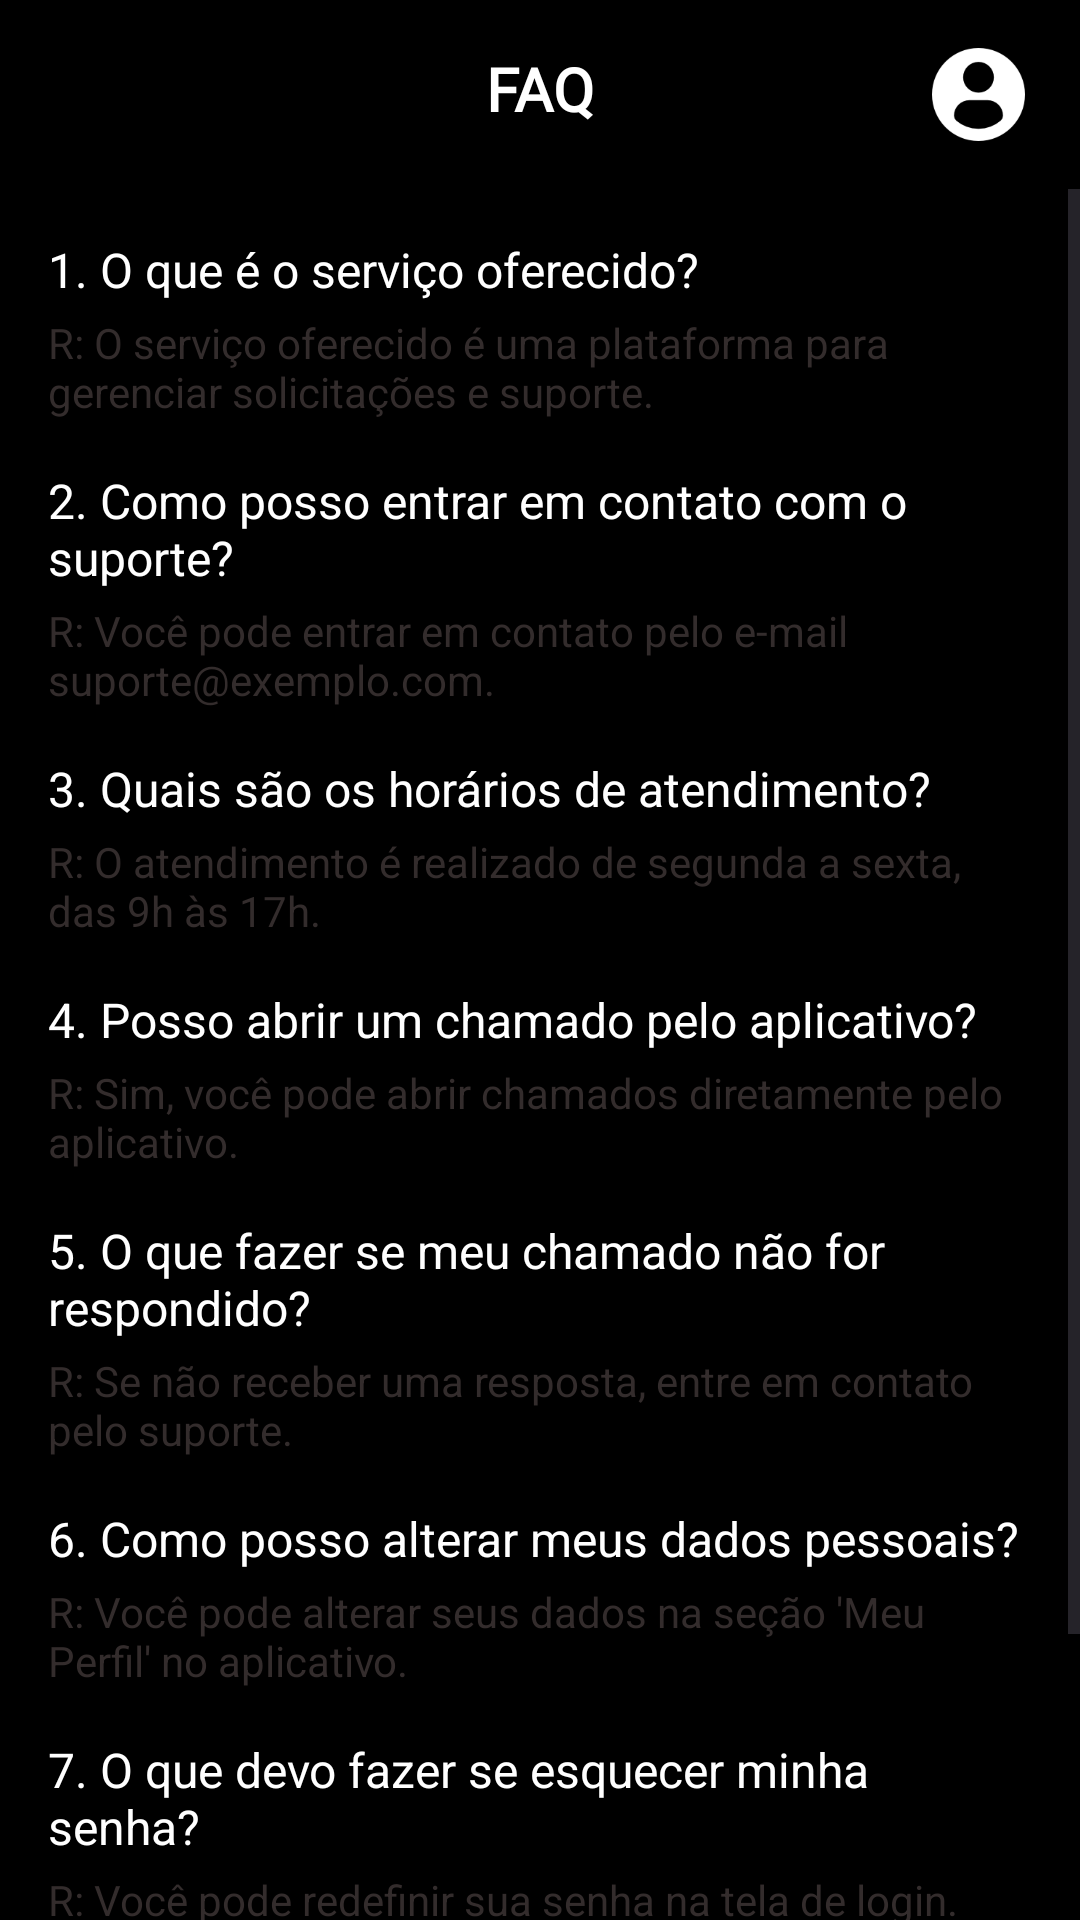

Icons on this 1080w x 1920h Android screen, each with the point to tap as [x,y]:
User Icon: [978,94]
